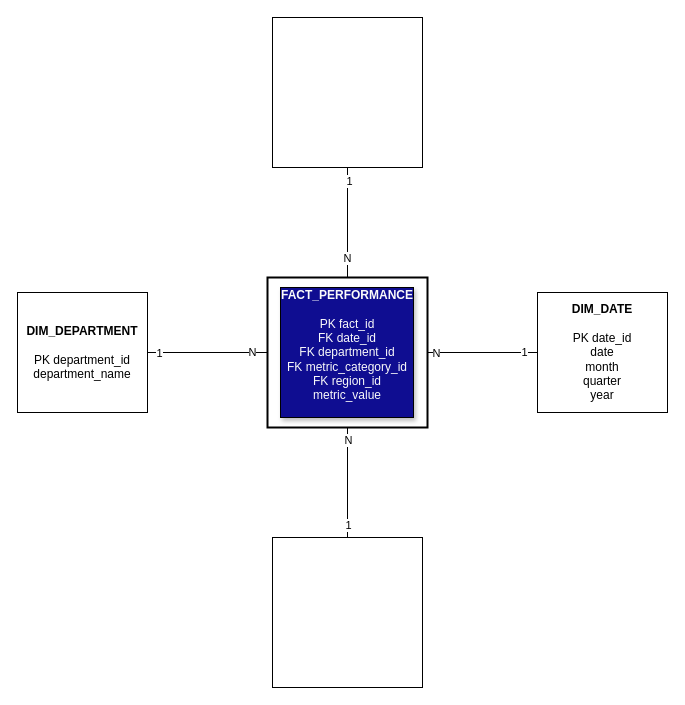
The diagram is 685 pixels wide and 705 high, and some of its shapes have lost their labels. The shapes that lost their labels are listed below. From the top down, each one's centre as x and y in pixels, then its label:
At pixel 347 92: "DIM_METRIC_CATEGORY PK metric_category_id metric_category_name".
At pixel 347 612: "DIM_REGION PK region_id region_name".
